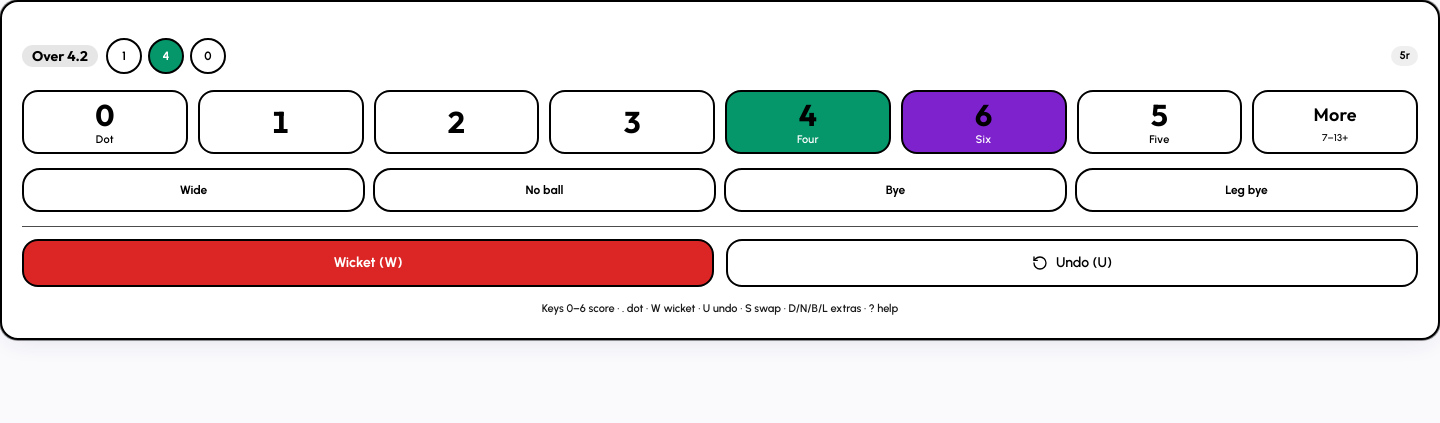
Test: ScoringPanel with Wagon Wheel selection › renders high-contrast active state for selected extra in sunlightMode
What coordinates should you click on to do the following:
click the button "Wide"
I would click on:
 (194, 190)
Its box is [22, 168, 365, 212].
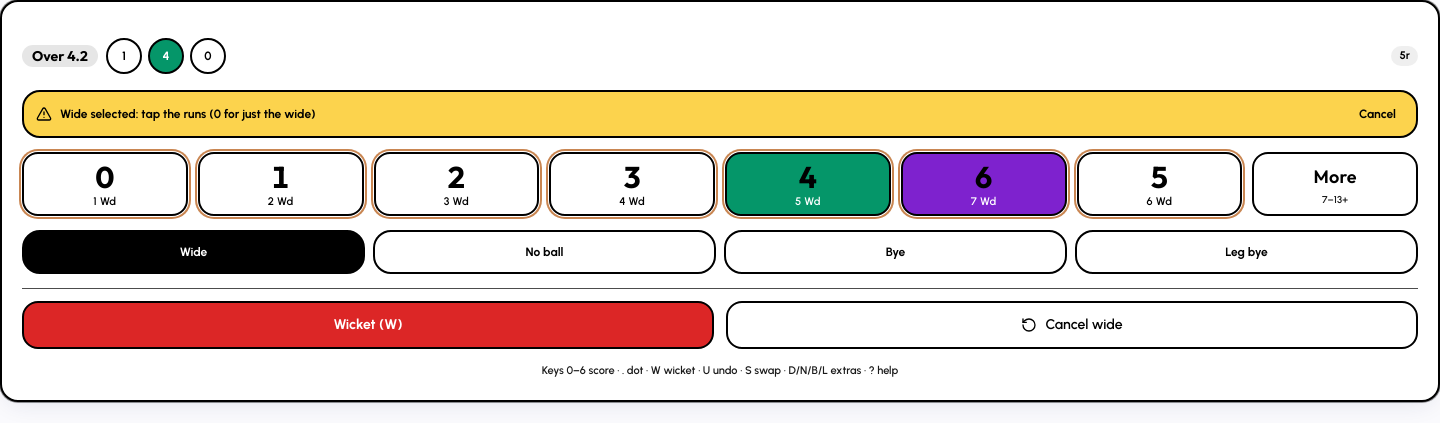
Check: the text "Wide selected: tap the runs (0 for just the wide)" is shown, box [60, 106, 316, 122]
